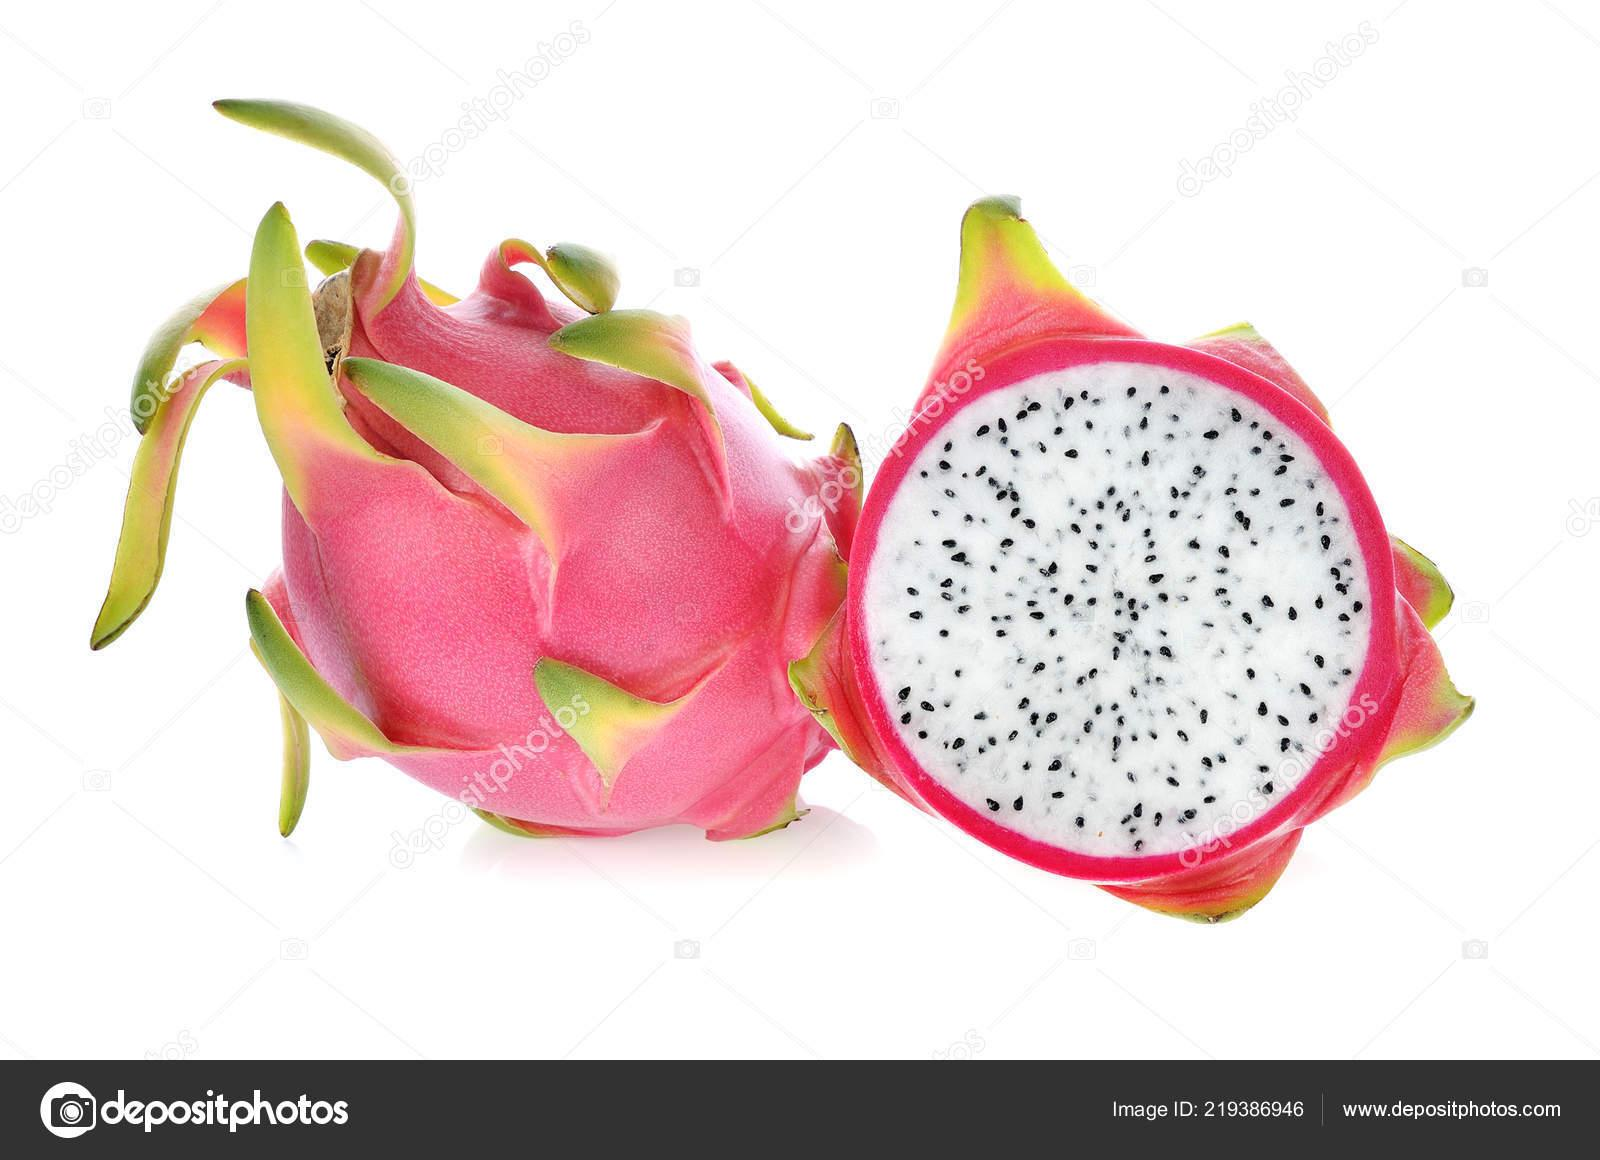dragon fruit: (65, 56, 846, 969), (784, 176, 1496, 976)
